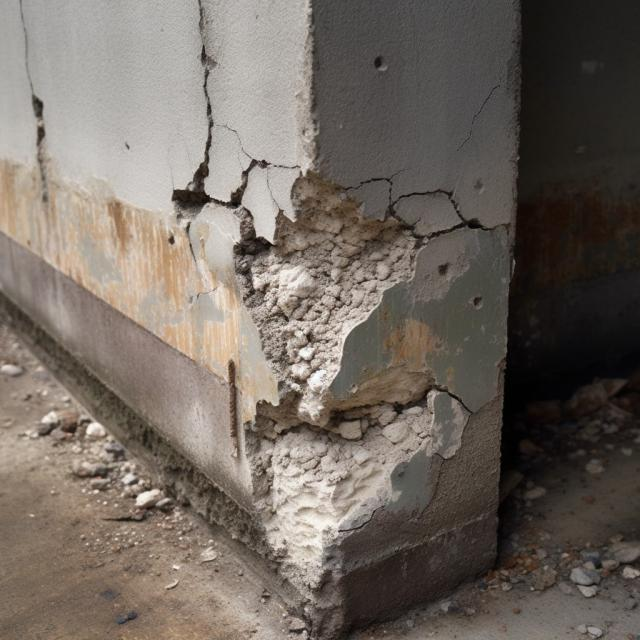crack: (235, 179, 469, 639)
